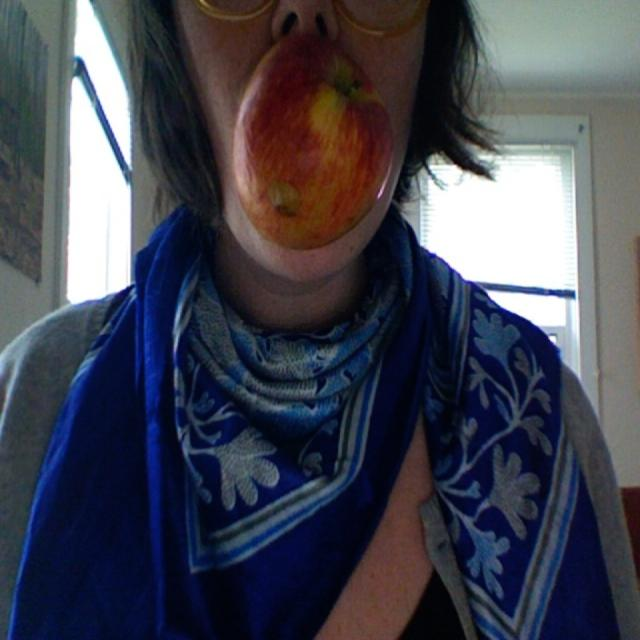Healty Apple: (203, 33, 400, 340)
